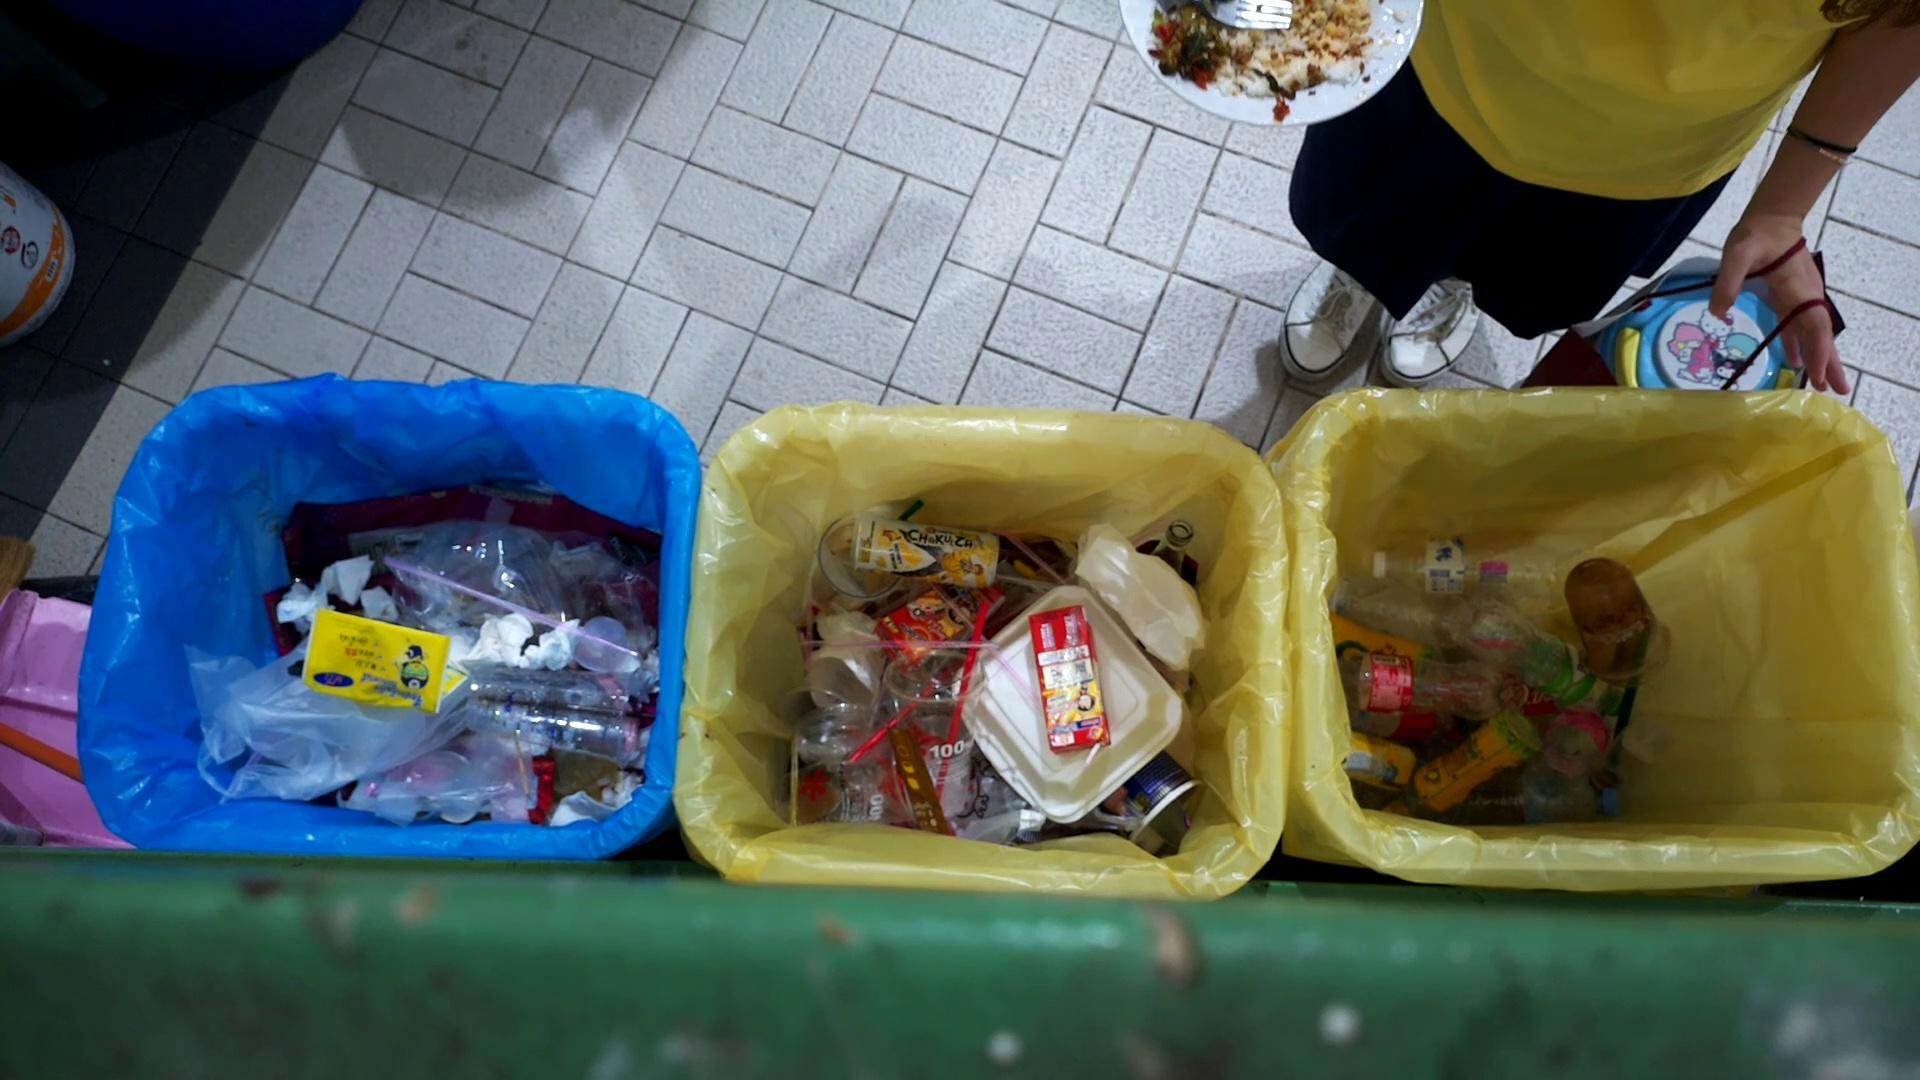can: (840, 512, 1005, 592)
filled plastic bag: (301, 616, 465, 715)
food container: (952, 589, 1192, 828), (571, 613, 638, 676)
milk carton: (878, 558, 1000, 675), (1025, 604, 1116, 760)
plastic bag: (198, 622, 502, 791), (386, 737, 530, 835)
plastic bottle: (1448, 576, 1643, 721), (1365, 533, 1604, 600), (1398, 709, 1536, 814), (1323, 651, 1509, 717), (1324, 611, 1437, 690), (1345, 727, 1439, 793)
plastic cup: (462, 640, 650, 767), (877, 663, 981, 823), (777, 738, 928, 835), (1573, 553, 1673, 687), (786, 699, 870, 767)
snack packaging: (889, 727, 951, 837)
straw: (377, 541, 646, 661), (827, 653, 965, 779), (924, 560, 1033, 712), (945, 605, 986, 785), (1610, 618, 1656, 736), (1000, 525, 1081, 584), (786, 731, 804, 831)
tissue paper: (1073, 513, 1213, 675), (804, 611, 893, 715), (543, 781, 636, 832), (513, 612, 592, 667), (462, 611, 526, 666), (261, 575, 330, 626), (315, 547, 377, 603), (359, 585, 401, 625)
